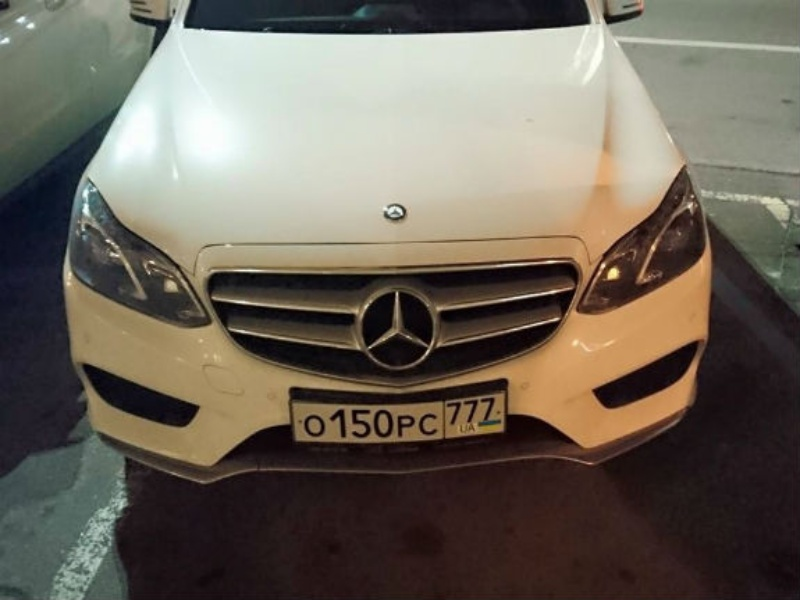car: (59, 1, 714, 484)
plate: (290, 389, 504, 440)
